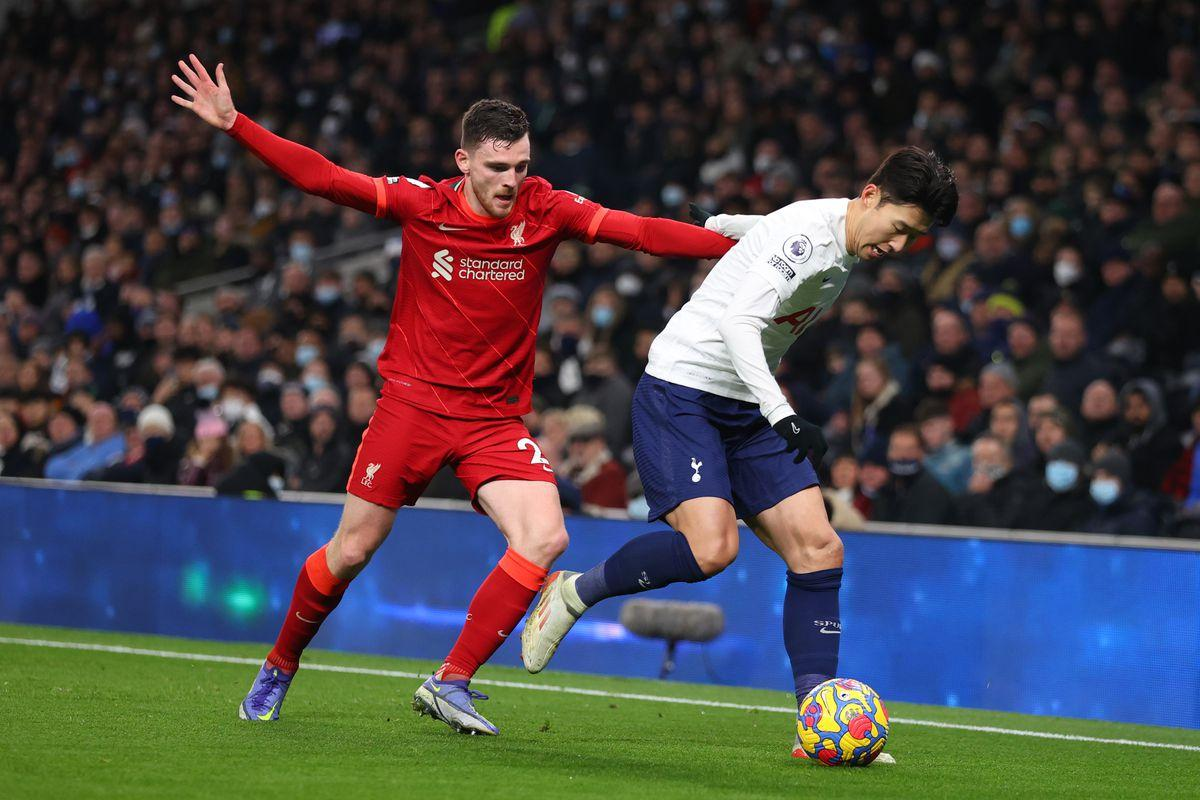ballon_football: (796, 677, 889, 770)
